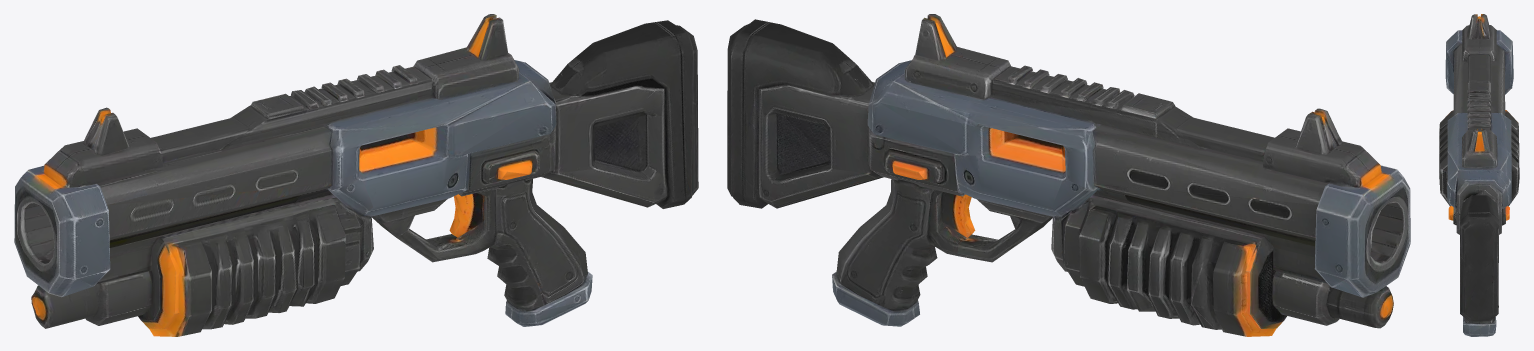
File: shotgun.glb
3 views of the same model, side by side, from view 1: azimuth 30°, elevation 25°; view 2: azimuth 150°, elevation 25°; view 3: azimuth 270°, elevation 25° (orthographic). The views are drawn at different scales.
Visible parts, largest first — view 1: mesh_node; view 2: mesh_node; view 3: mesh_node.
Part boxes in pixels (x1=…): mesh_node: x1=14, y1=14, x2=698, y2=336; mesh_node: x1=727, y1=14, x2=1410, y2=336; mesh_node: x1=1439, y1=14, x2=1519, y2=336.
Size of the model in its own units: 1 by 0.4571 by 0.1758.
Materials: 1 (1 with a texture image).
